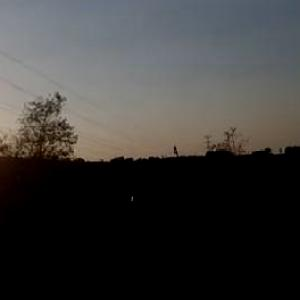follow: (112, 185, 180, 299)
